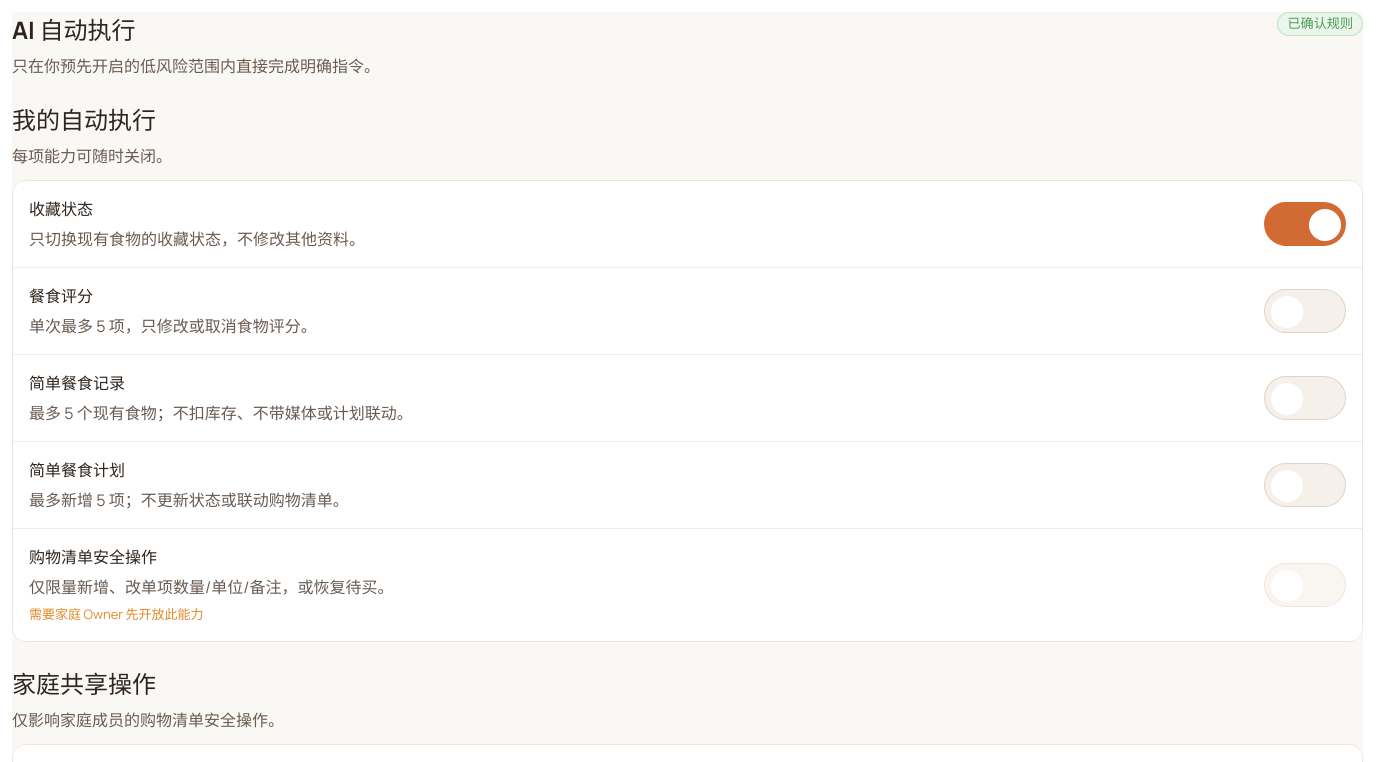
Test: AiAutoExecutionSettingsView › shows a fixed conflict recovery message without replaying the stale row
Click the switch named "收藏状态" at coordinates (1305, 224), box [1264,202,1346,246]
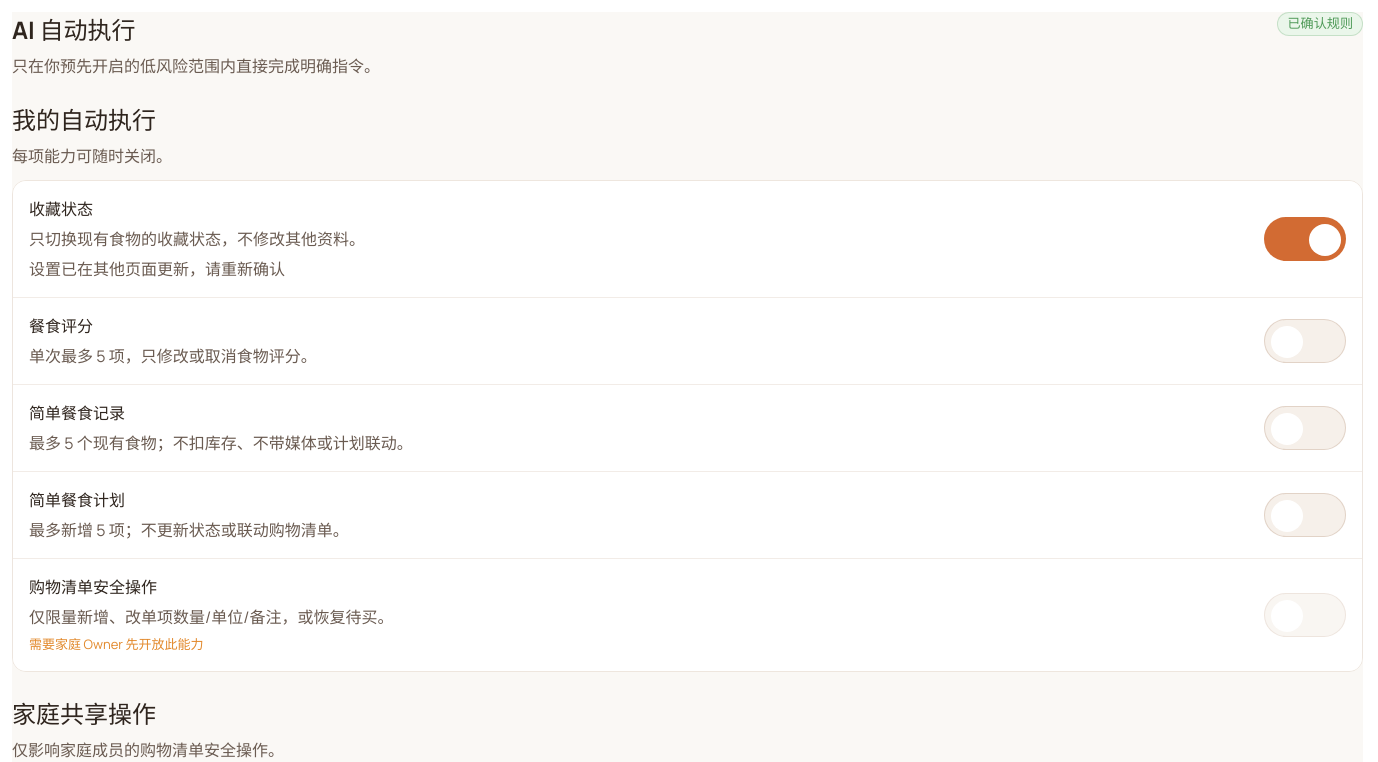
Now the text "设置已在其他页面更新，请重新确认" is shown, box [29,258,285,280]
